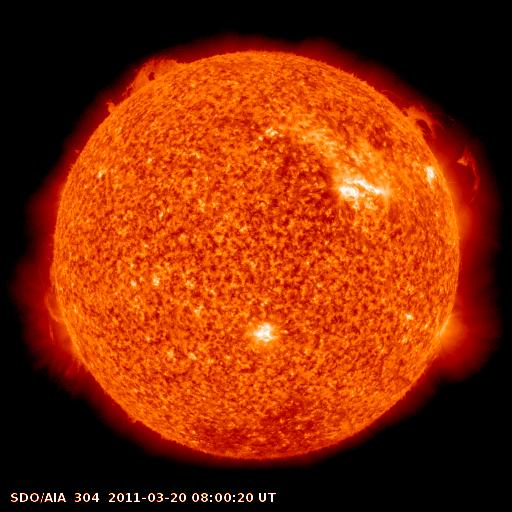prominence: (380, 80, 496, 207), (128, 46, 193, 96), (30, 257, 73, 325), (101, 92, 123, 122)
